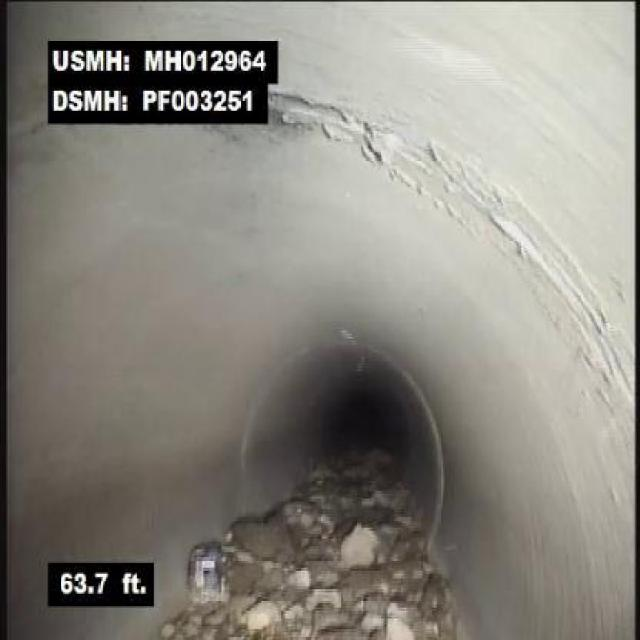Obstacle: (339, 454, 526, 637), (165, 452, 340, 638)
